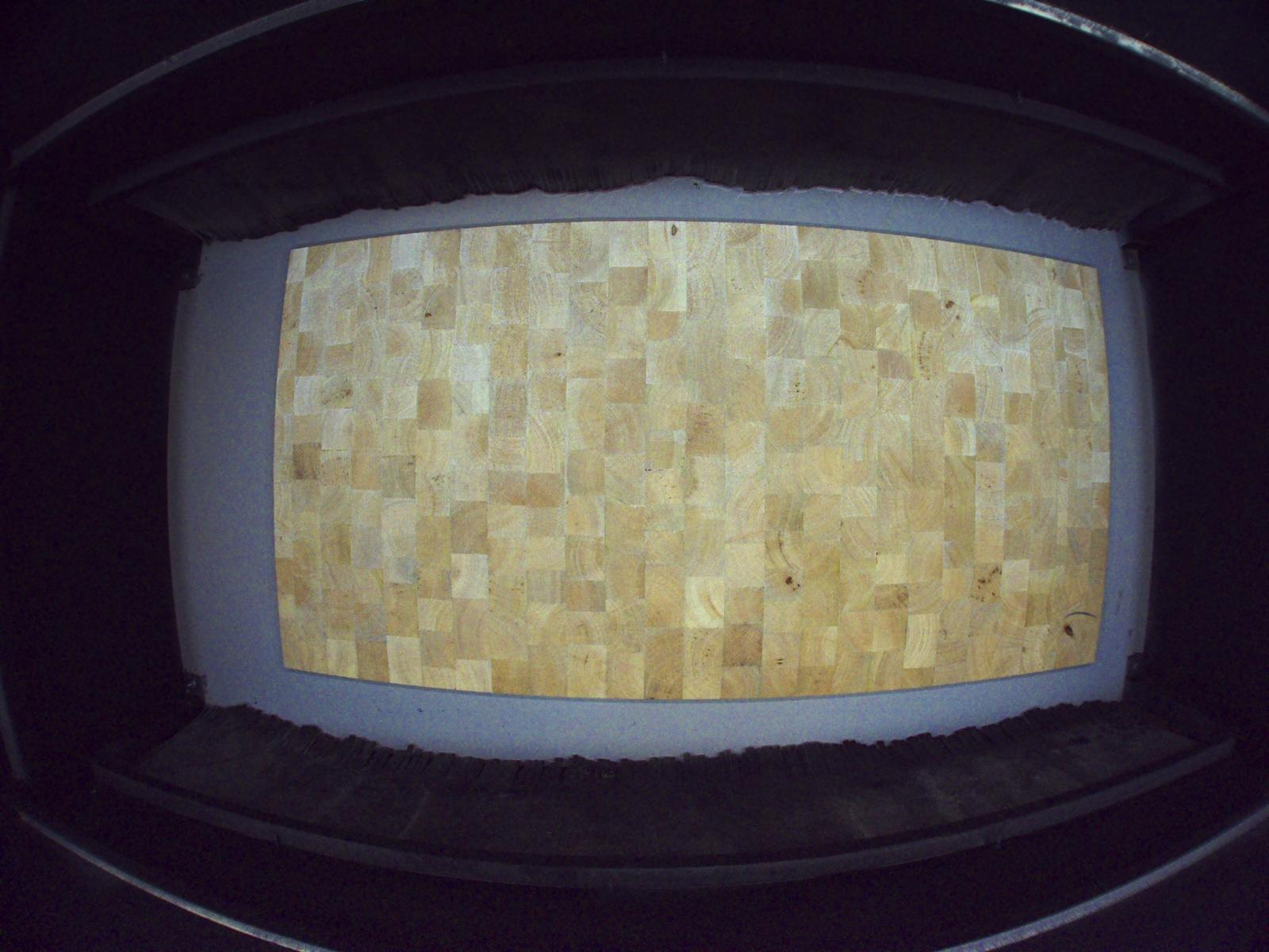nudillo: (1062, 623, 1076, 639)
